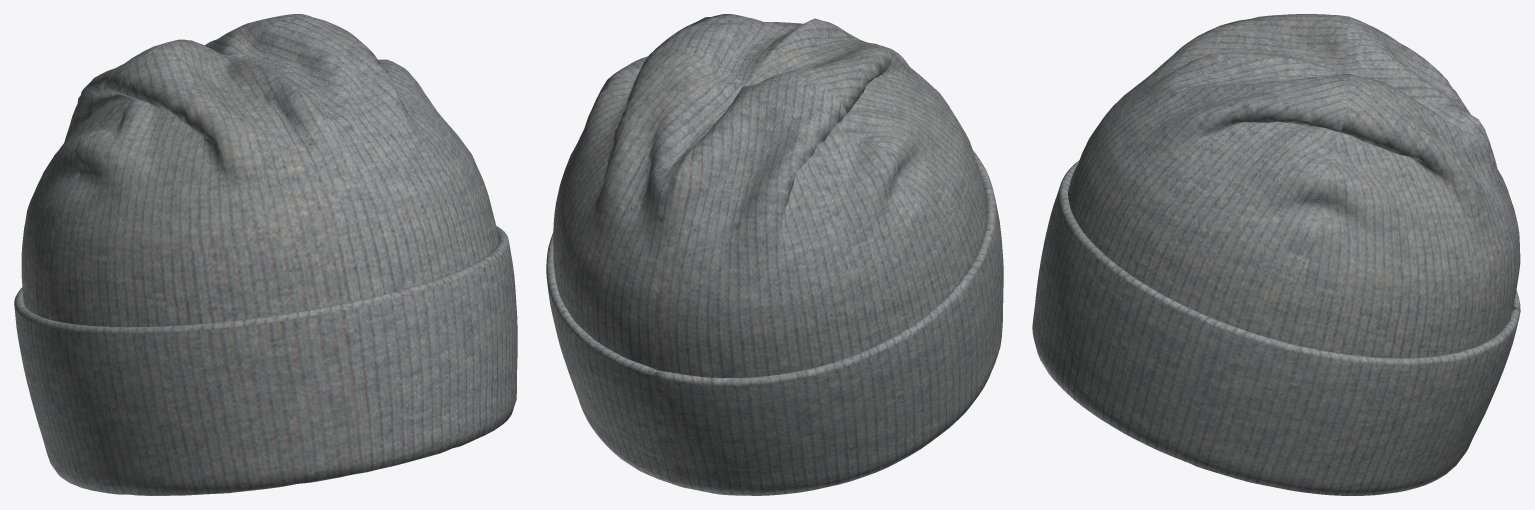
The model's file is beanie.glb.
3 views of the same model, side by side, from view 1: azimuth 30°, elevation 25°; view 2: azimuth 150°, elevation 25°; view 3: azimuth 270°, elevation 25° (orthographic). The views are drawn at different scales.
Parts seen in each view (by area): view 1: beanie; view 2: beanie; view 3: beanie.
Boxes of the visible parts, x1,y1,x2,y2 form: beanie: [14, 14, 517, 495]; beanie: [546, 14, 1003, 495]; beanie: [1032, 14, 1520, 495].
Bounding box in the file's own units: 1.15 × 1.1 × 1.23.
1 material, 1 textured.
